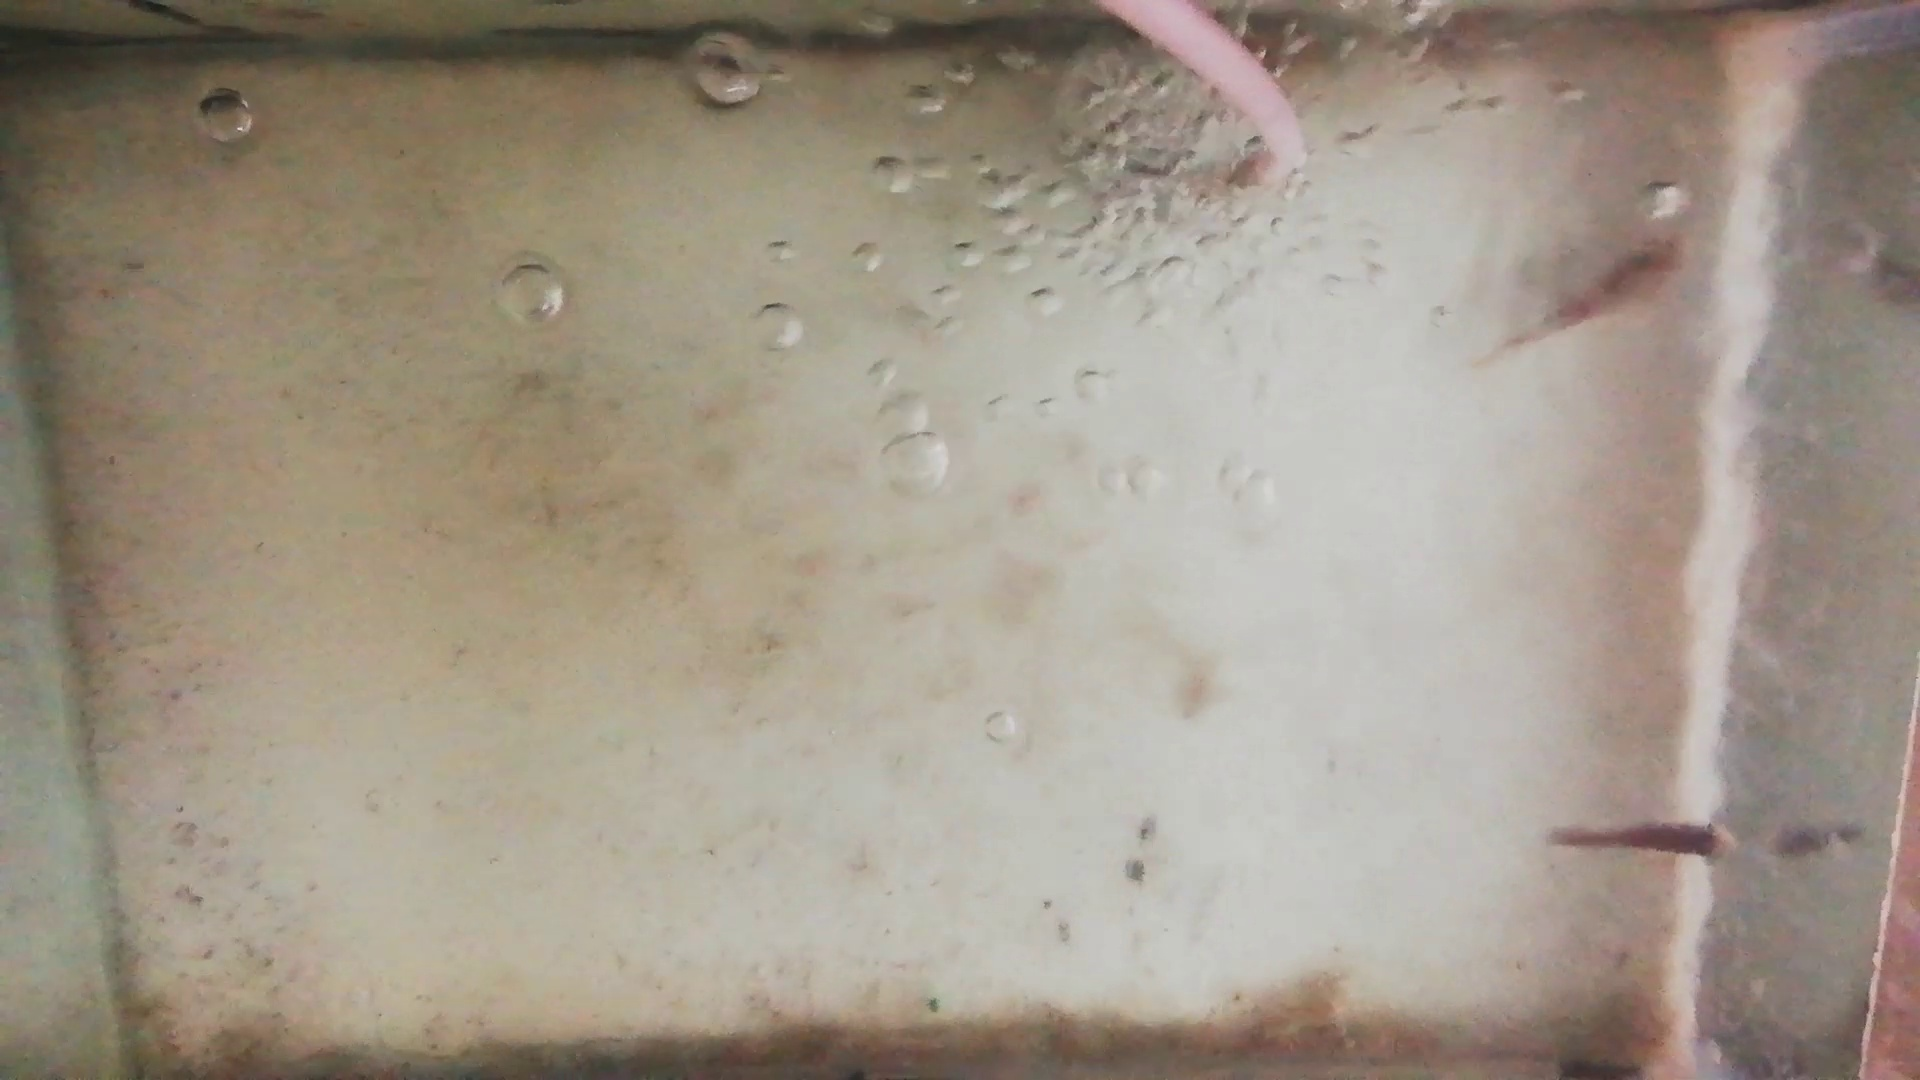fish: (1489, 236, 1691, 375), (1544, 819, 1735, 868)
